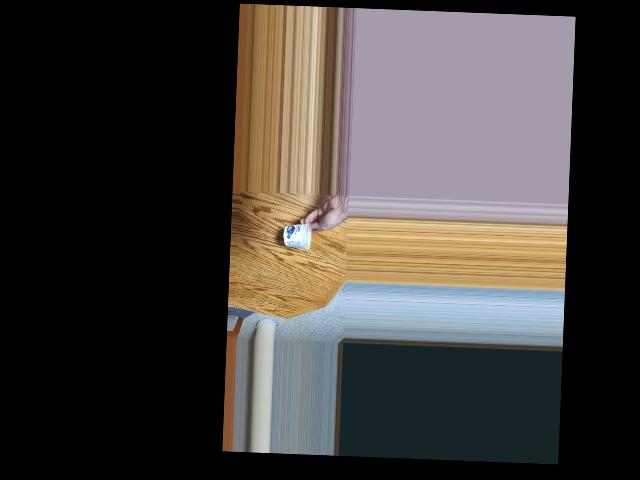cotage: (283, 216, 317, 252)
